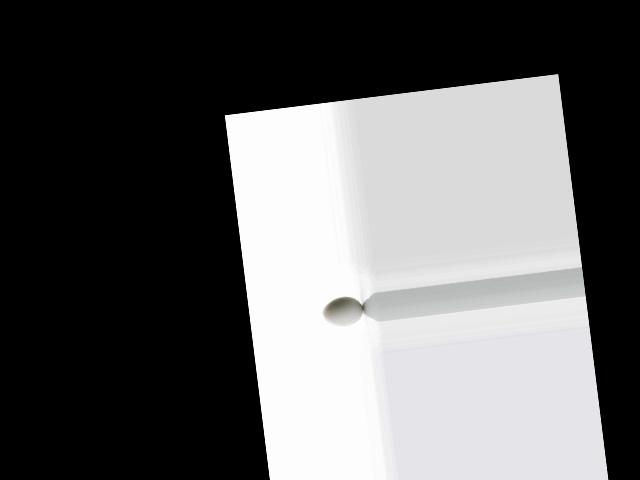egg: (321, 295, 364, 328)
